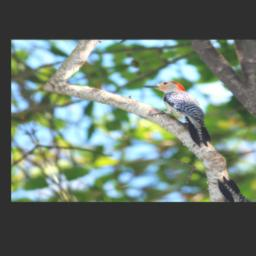Woodpecker: (134, 75, 221, 157)
